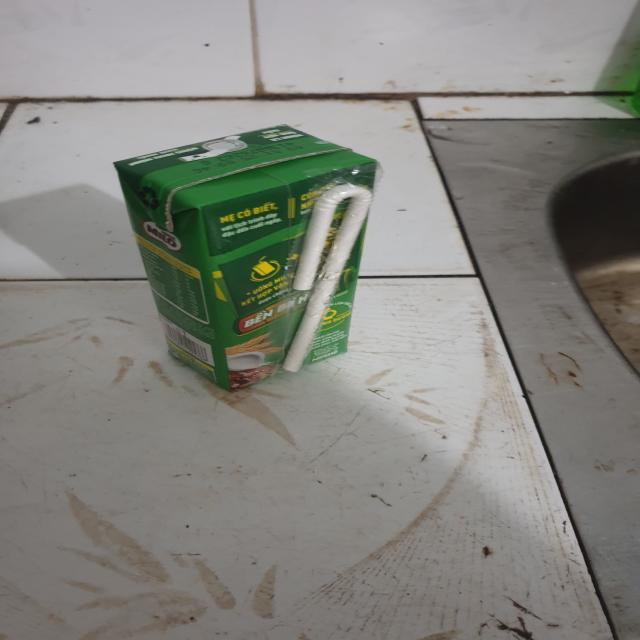Milo: (114, 128, 382, 393)
